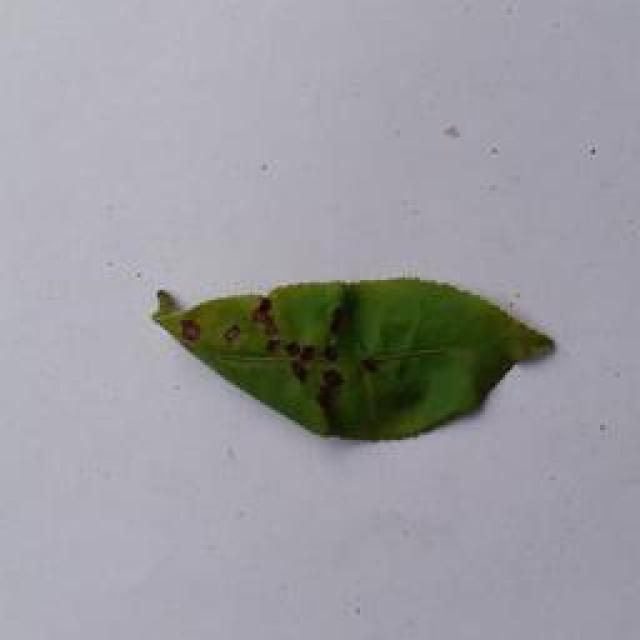Helopeltis: (143, 261, 553, 448)
